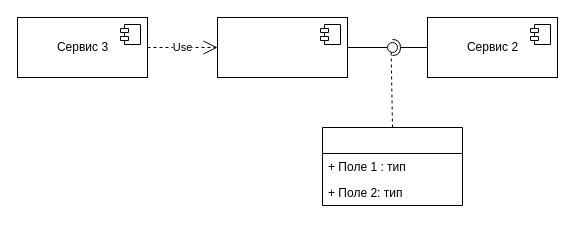
Some shapes in this 575 by 226 pixel diagram are drawn without their labels. The shapes that lost their labels are listed below. From the top down, each one's box as (x1, y1, x2, y2) in pixels, then its label:
(216, 16, 348, 78): Сервис 1
(322, 126, 462, 206): Структура 1
